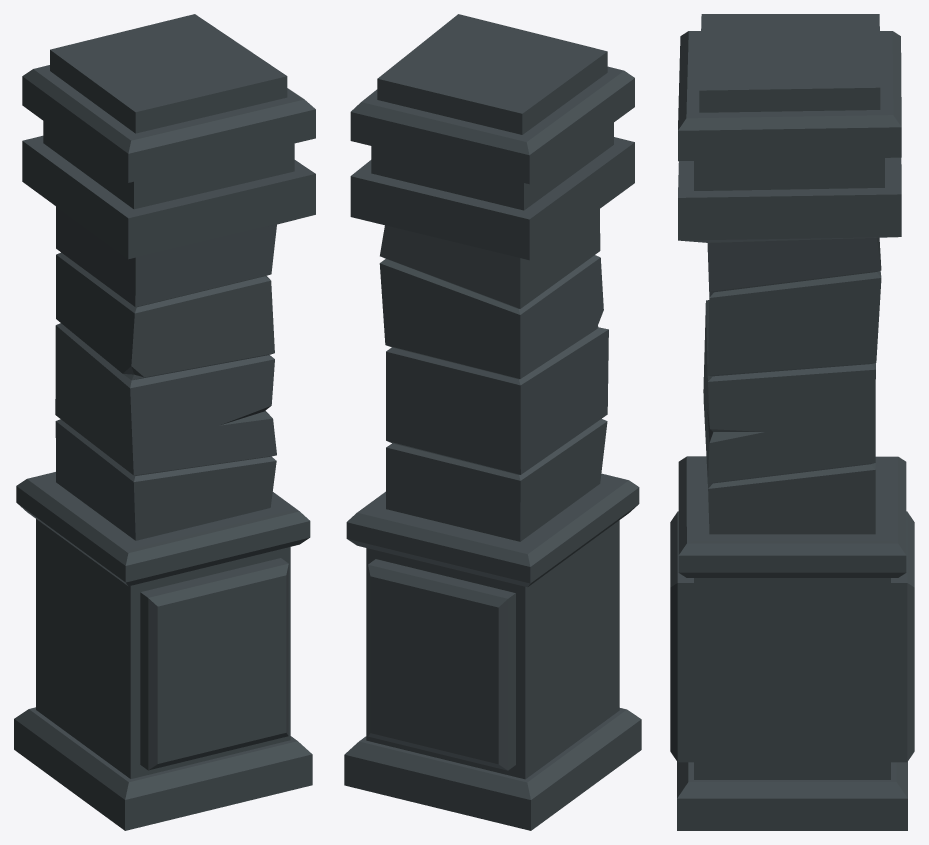
File: fencepost.fbx
The picture shows the model from 3 angles, left to right: view 1: azimuth 30°, elevation 25°; view 2: azimuth 150°, elevation 25°; view 3: azimuth 270°, elevation 25°; orthographic projection. The views are drawn at different scales.
Parts seen in each view (by area): view 1: fencepost; view 2: fencepost; view 3: fencepost.
Part boxes in pixels (x1,y1,x2,y2): fencepost: [14, 14, 315, 830]; fencepost: [344, 14, 641, 830]; fencepost: [670, 14, 914, 830].
Bounding box in the file's own units: 0.6809 × 2.4 × 0.7251.
